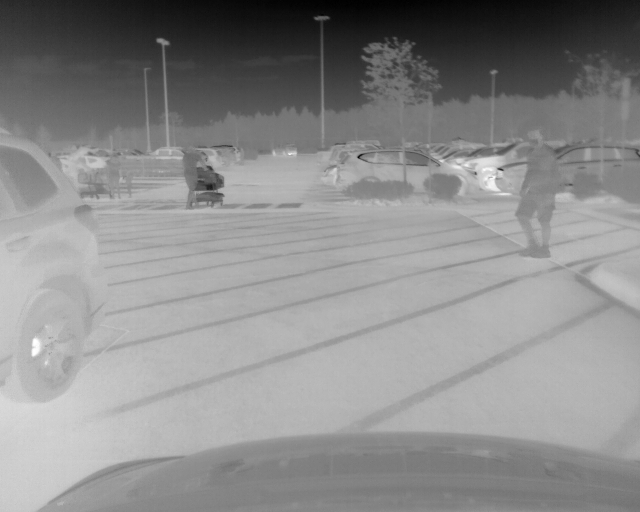car: (3, 129, 103, 404), (497, 142, 640, 201), (336, 148, 475, 198), (465, 138, 564, 193), (150, 146, 187, 162), (216, 144, 237, 167), (201, 149, 223, 170), (272, 142, 298, 158)
people: (507, 129, 562, 257), (182, 140, 207, 205), (104, 152, 121, 199), (122, 152, 134, 198)
